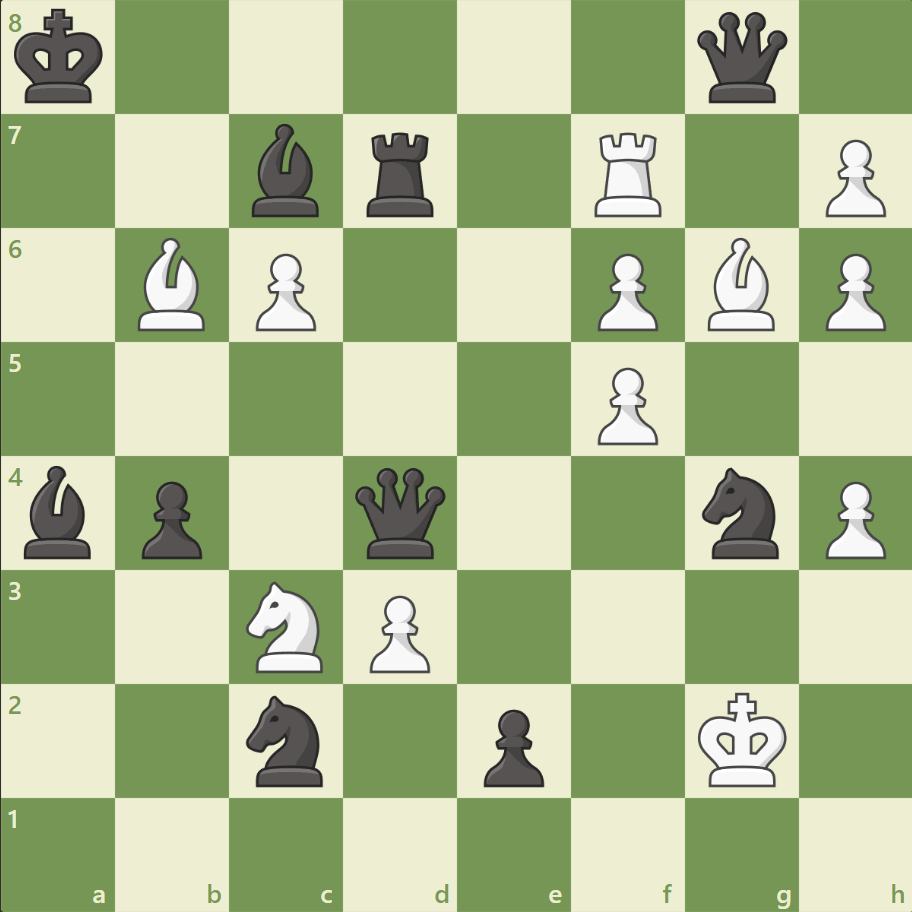B: (131, 233, 215, 336), (698, 233, 782, 336)
K: (692, 685, 792, 793)
N: (238, 575, 335, 677)
P: (247, 246, 322, 337), (815, 132, 889, 223), (588, 246, 662, 337), (815, 246, 889, 337), (588, 359, 662, 450), (815, 473, 889, 564), (361, 586, 435, 677)
R: (587, 125, 670, 222)
b: (17, 460, 101, 563), (244, 120, 328, 222)
k: (11, 4, 111, 112)
n: (692, 461, 789, 564), (238, 688, 335, 791)
p: (133, 473, 208, 564), (474, 700, 549, 791)
q: (691, 9, 790, 108), (351, 463, 450, 562)
r: (360, 125, 442, 222)
